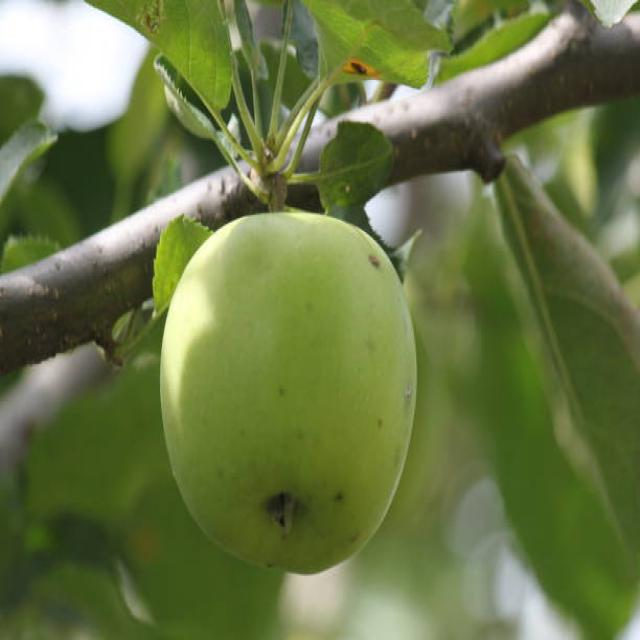Unripe: (160, 208, 418, 575)
